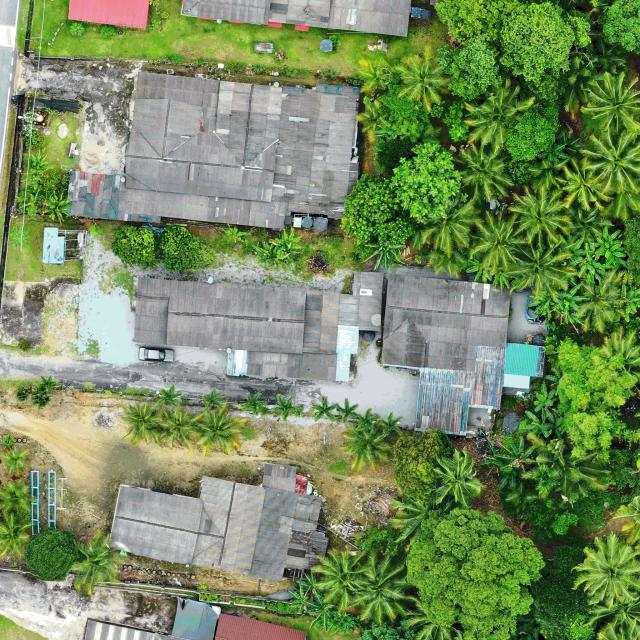Tree: (404, 506, 547, 640), (498, 1, 592, 87), (390, 138, 460, 226), (521, 432, 611, 499), (556, 337, 638, 410), (462, 79, 537, 157), (340, 173, 416, 246), (348, 552, 418, 626), (572, 532, 640, 606), (505, 179, 573, 248), (393, 428, 455, 502), (509, 237, 576, 302), (453, 138, 515, 206), (581, 124, 640, 193), (392, 43, 450, 113), (418, 198, 482, 260), (437, 36, 497, 102), (70, 530, 128, 596), (434, 0, 523, 42), (468, 210, 528, 272), (580, 70, 640, 131), (551, 157, 611, 215), (312, 546, 368, 608), (562, 409, 627, 462), (428, 449, 486, 508), (25, 526, 83, 582), (158, 222, 216, 273), (576, 273, 622, 334), (196, 406, 250, 457), (590, 331, 640, 386), (505, 112, 559, 162), (339, 426, 393, 474), (585, 596, 640, 640), (526, 285, 588, 324), (110, 223, 159, 270), (118, 402, 166, 448), (600, 0, 640, 55), (566, 206, 609, 251), (160, 407, 202, 450), (0, 509, 33, 561), (591, 224, 627, 270), (362, 238, 407, 272), (0, 480, 37, 516), (356, 57, 394, 92), (494, 437, 534, 468), (252, 240, 292, 271), (574, 243, 604, 283), (306, 588, 333, 631), (477, 441, 509, 476), (43, 188, 74, 224), (519, 410, 555, 437), (271, 392, 304, 421), (270, 227, 304, 255), (288, 582, 314, 615), (239, 390, 269, 418), (310, 395, 339, 423), (618, 286, 640, 322), (2, 446, 30, 474), (533, 383, 558, 412), (19, 190, 45, 216), (379, 412, 404, 437), (355, 408, 380, 433), (497, 466, 521, 492), (337, 397, 360, 423), (202, 387, 224, 411), (223, 225, 249, 244), (158, 384, 180, 406), (30, 151, 52, 171), (29, 389, 50, 409), (28, 168, 44, 189), (37, 376, 57, 392), (69, 21, 86, 37)
